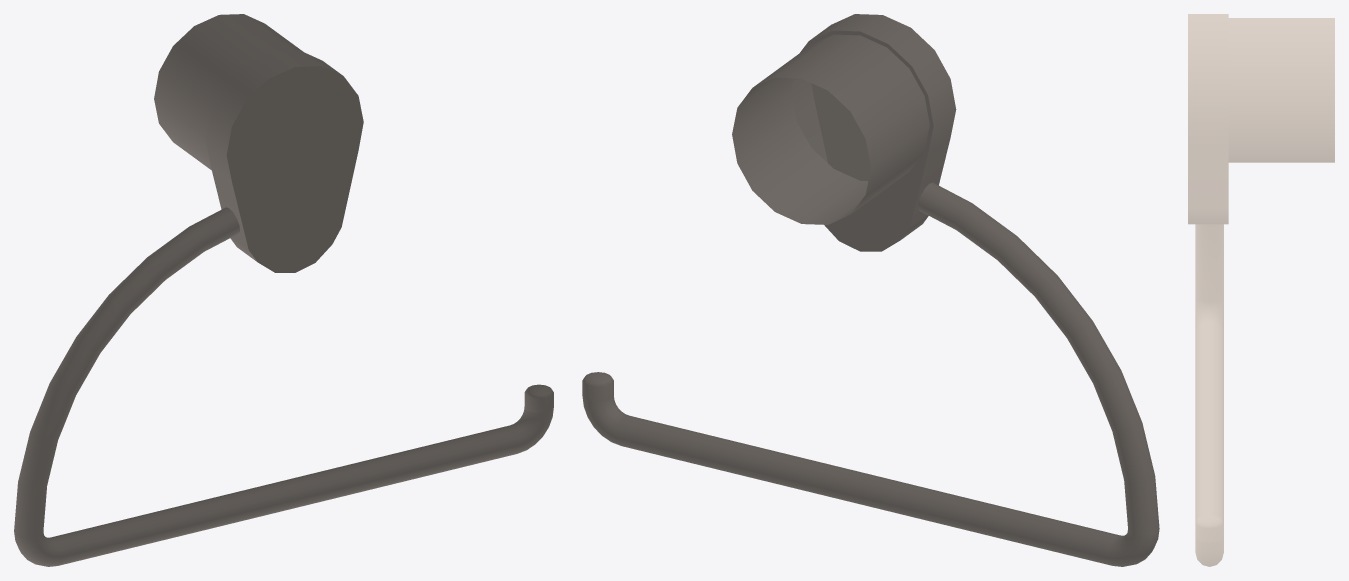
The model's file is ToiletPaperHanger_6d218f52.obj.
The picture shows the model from 3 angles, left to right: view 1: azimuth 30°, elevation 25°; view 2: azimuth 150°, elevation 25°; view 3: azimuth 270°, elevation 25°; orthographic projection. The views are drawn at different scales.
Visible parts, largest first — view 1: toilet_paper_hanger_12_9df85bcc; view 2: toilet_paper_hanger_12_9df85bcc; view 3: toilet_paper_hanger_12_9df85bcc.
Boxes of the visible parts, box(x1,y1,x2,y2) form: toilet_paper_hanger_12_9df85bcc: box(14, 14, 553, 566); toilet_paper_hanger_12_9df85bcc: box(582, 14, 1159, 566); toilet_paper_hanger_12_9df85bcc: box(1188, 14, 1334, 566).
Size of the model in its own units: 0.2021 by 0.1622 by 0.0498.
